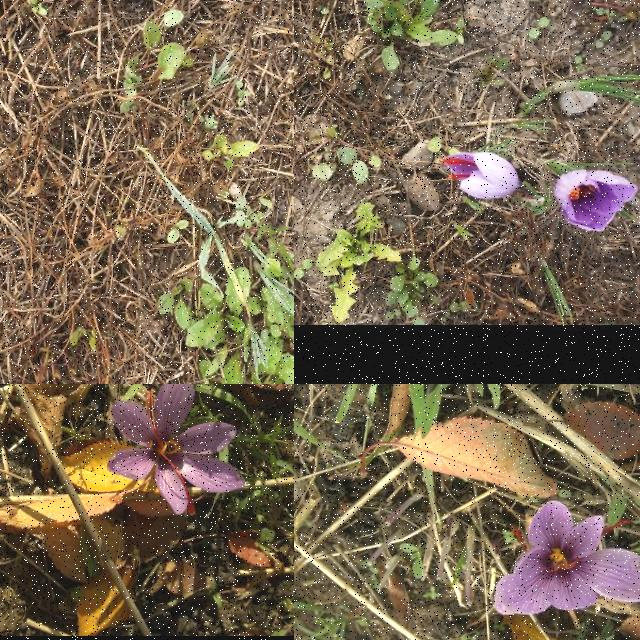flower: (107, 384, 243, 516), (494, 501, 640, 615), (554, 169, 638, 233), (440, 151, 520, 201)
